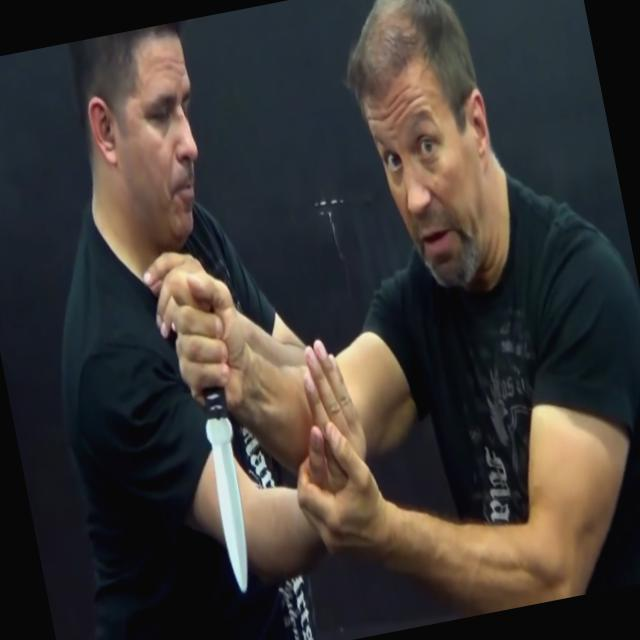knife: (154, 261, 285, 604)
